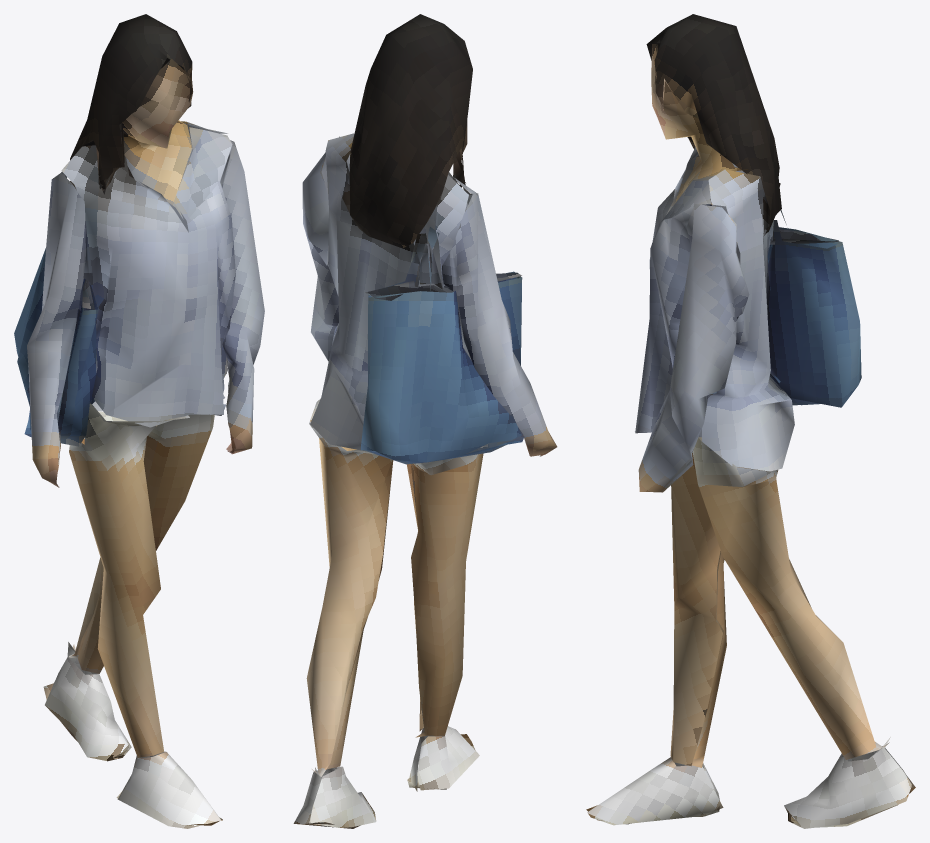
3 views of the same model, side by side, from view 1: azimuth 30°, elevation 25°; view 2: azimuth 150°, elevation 25°; view 3: azimuth 270°, elevation 25° (orthographic). The views are drawn at different scales.
Parts seen in each view (by area): view 1: Object_2; view 2: Object_2; view 3: Object_2.
Boxes of the visible parts, x1=… form: Object_2: x1=14, y1=14, x2=264, y2=828; Object_2: x1=293, y1=14, x2=557, y2=828; Object_2: x1=586, y1=14, x2=915, y2=828.
Size of the model in its own units: 0.5411 by 1.7 by 0.6434.
1 material, 1 textured.
